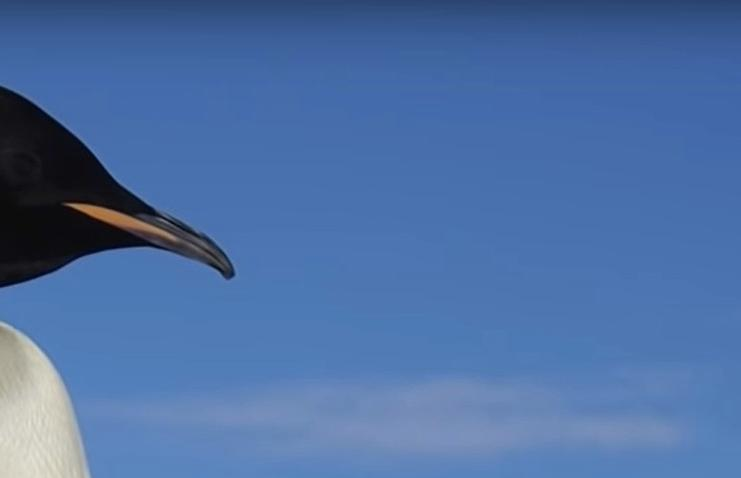Emperor Penguin: (0, 70, 262, 478)
